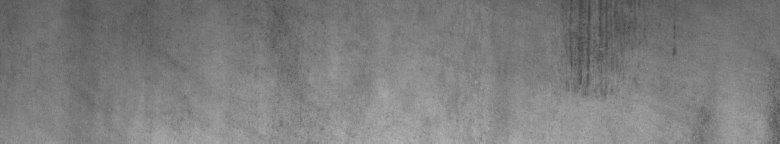ka: (568, 6, 604, 84)
